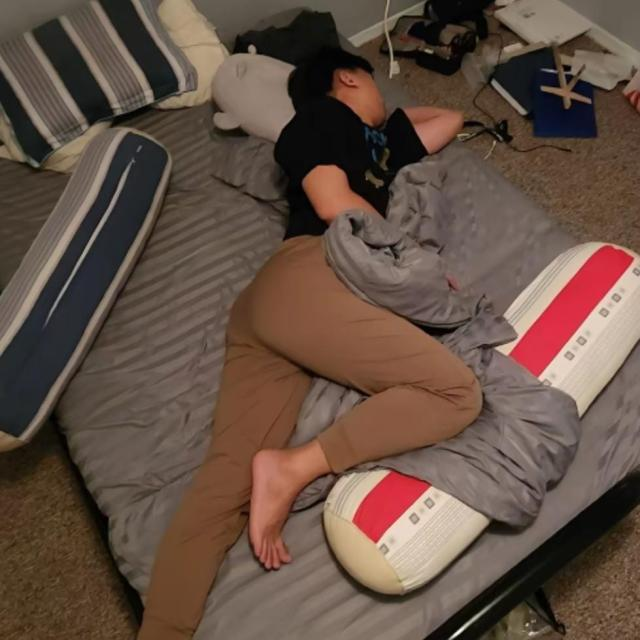deitado: (137, 49, 482, 639)
